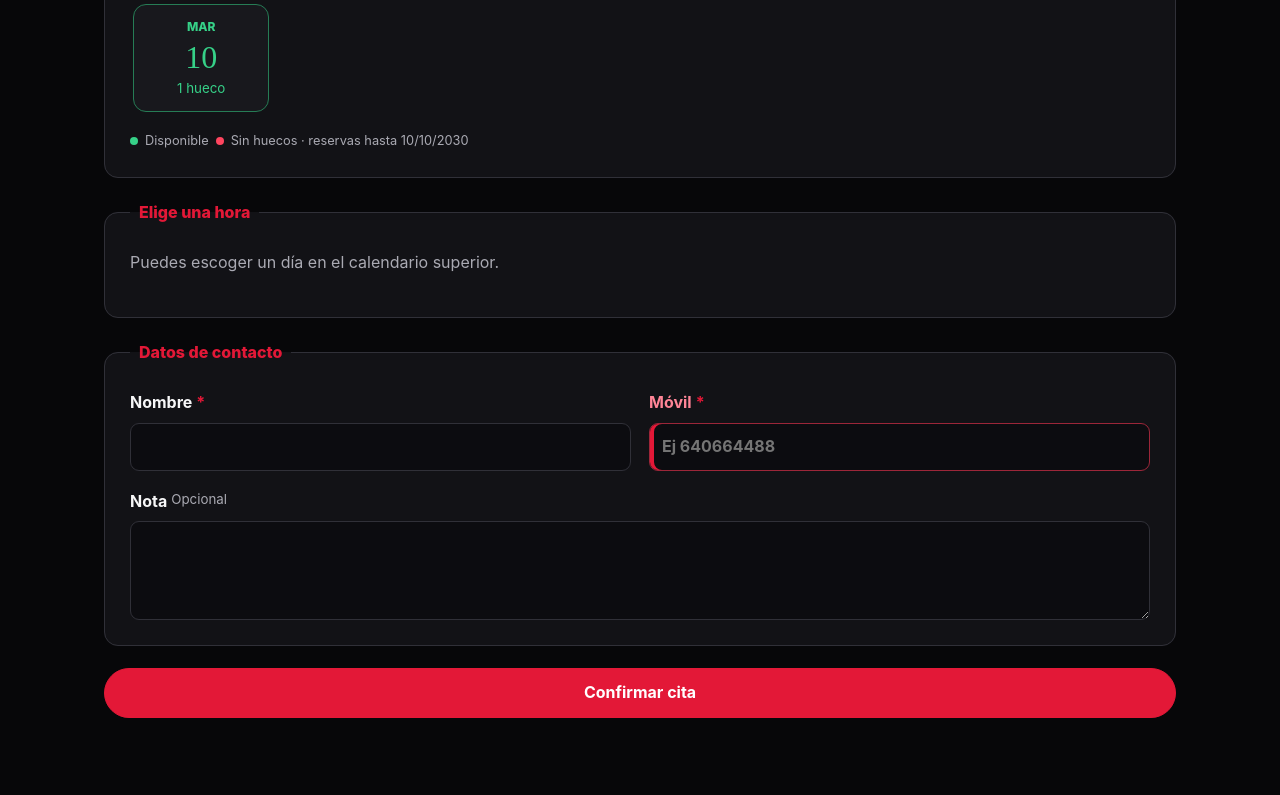
Test: reserva pública › actualiza los horarios tras un conflicto 409
The width and height of the screenshot is (1280, 795).
(page scrolled)
Type "Ana" into the field labelled "Nombre *" at (380,447), box left=130, top=423, right=631, bottom=471
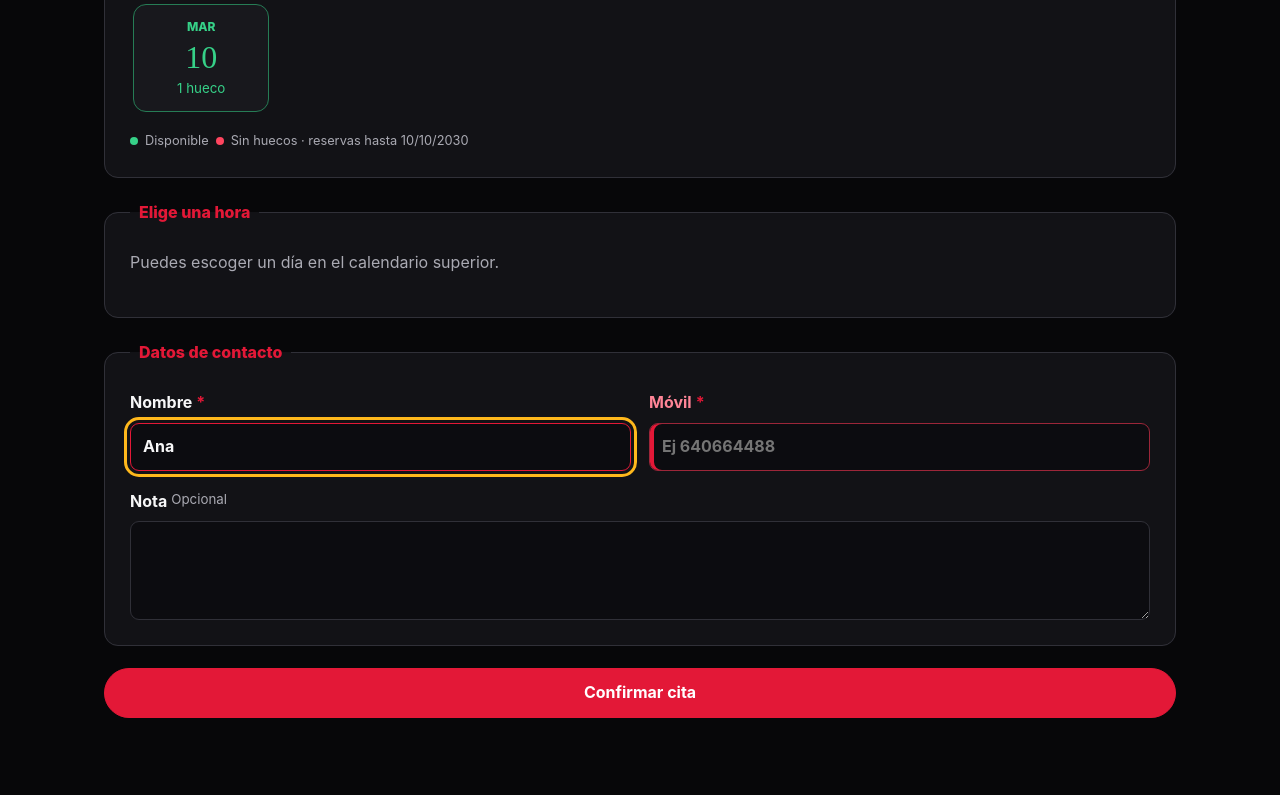
Type "600000000" into the field labelled "Móvil *" at (900,447), box left=649, top=423, right=1150, bottom=471
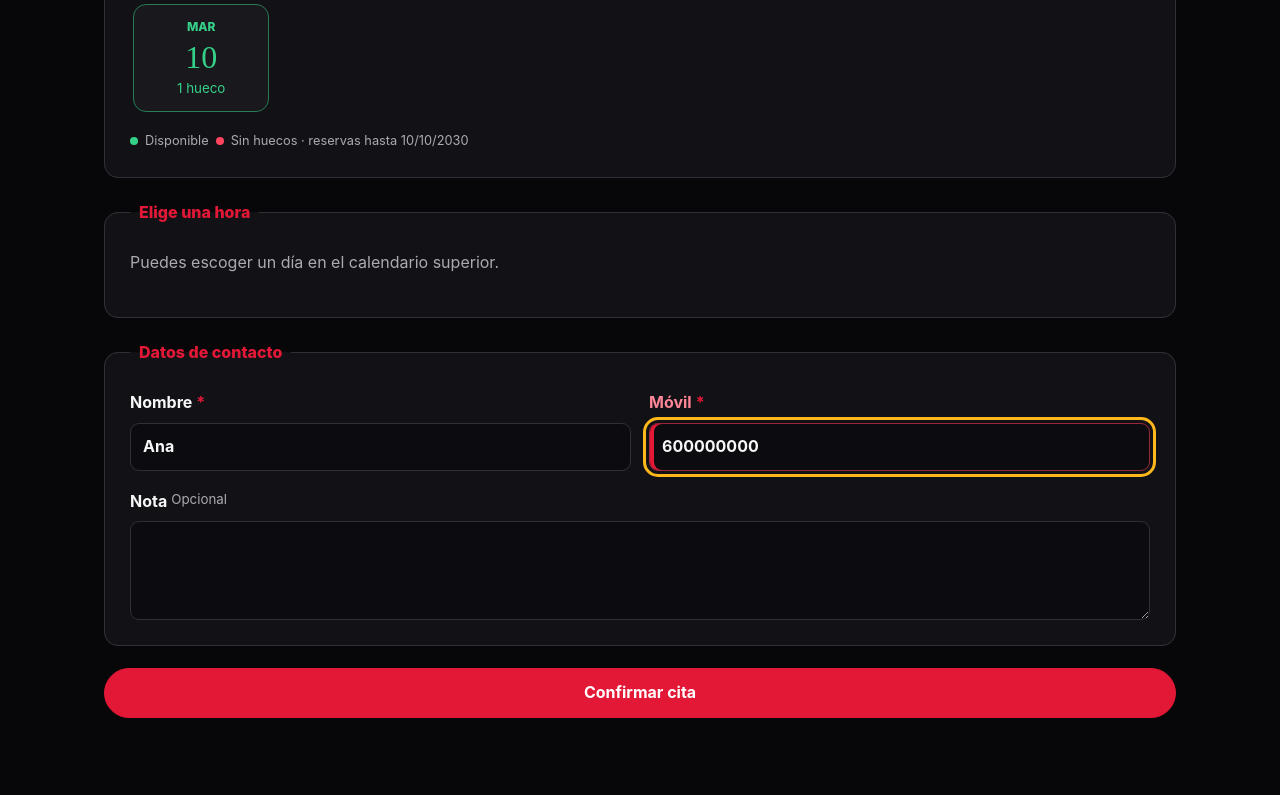
Click the button "mar 10 1 hueco" at (201,58), box left=133, top=4, right=269, bottom=112
(page scrolled)
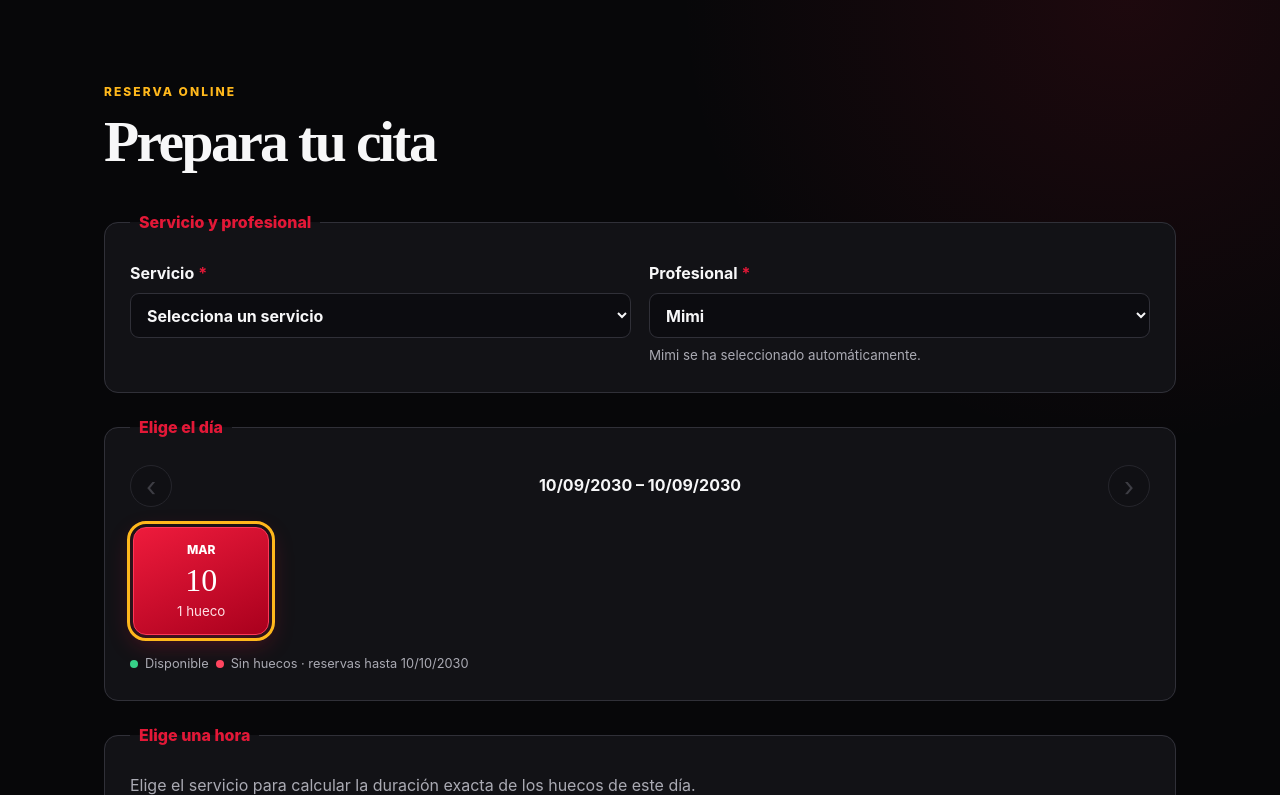
Select "Corte · 18.00 €" in the dropdown labelled "Servicio *" at (380,316), box left=130, top=293, right=631, bottom=338
(page scrolled)
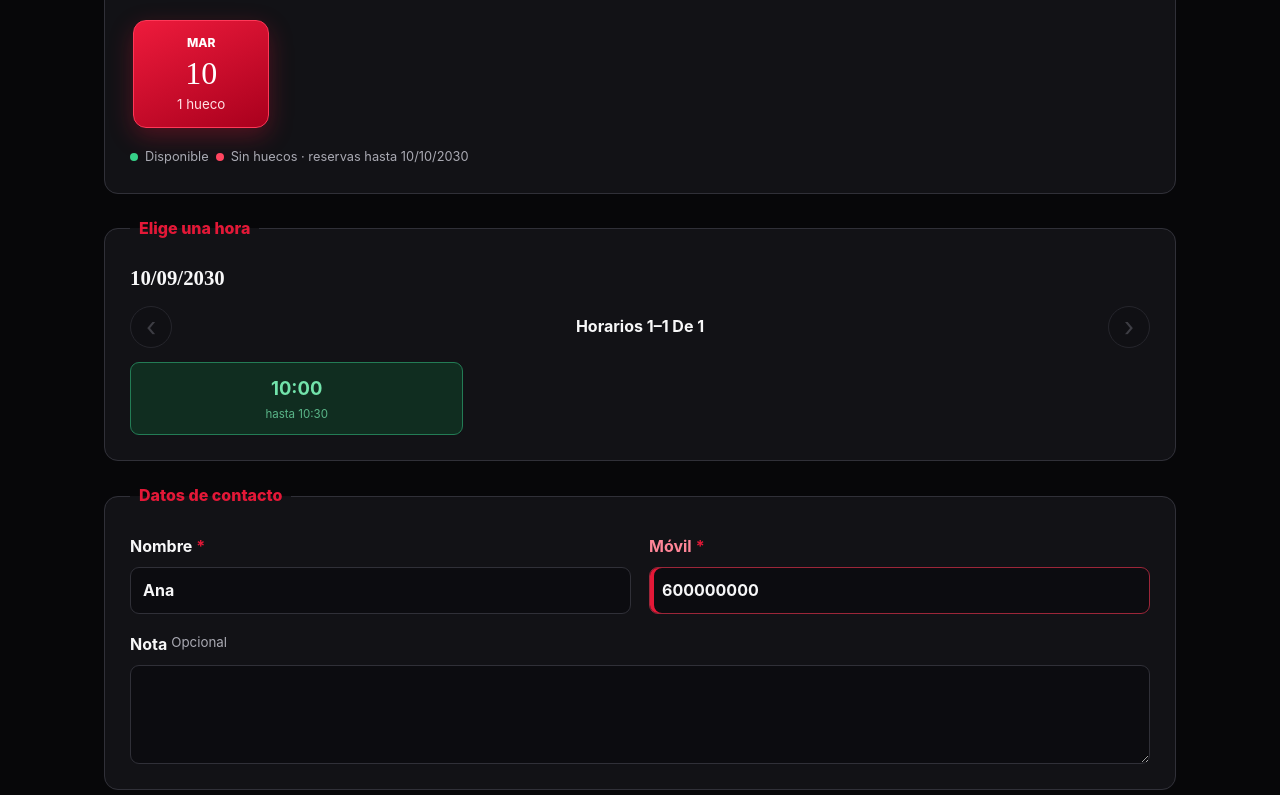
Click the button "10:00 hasta 10:30" at (297,398), box left=130, top=362, right=463, bottom=435
(page scrolled)
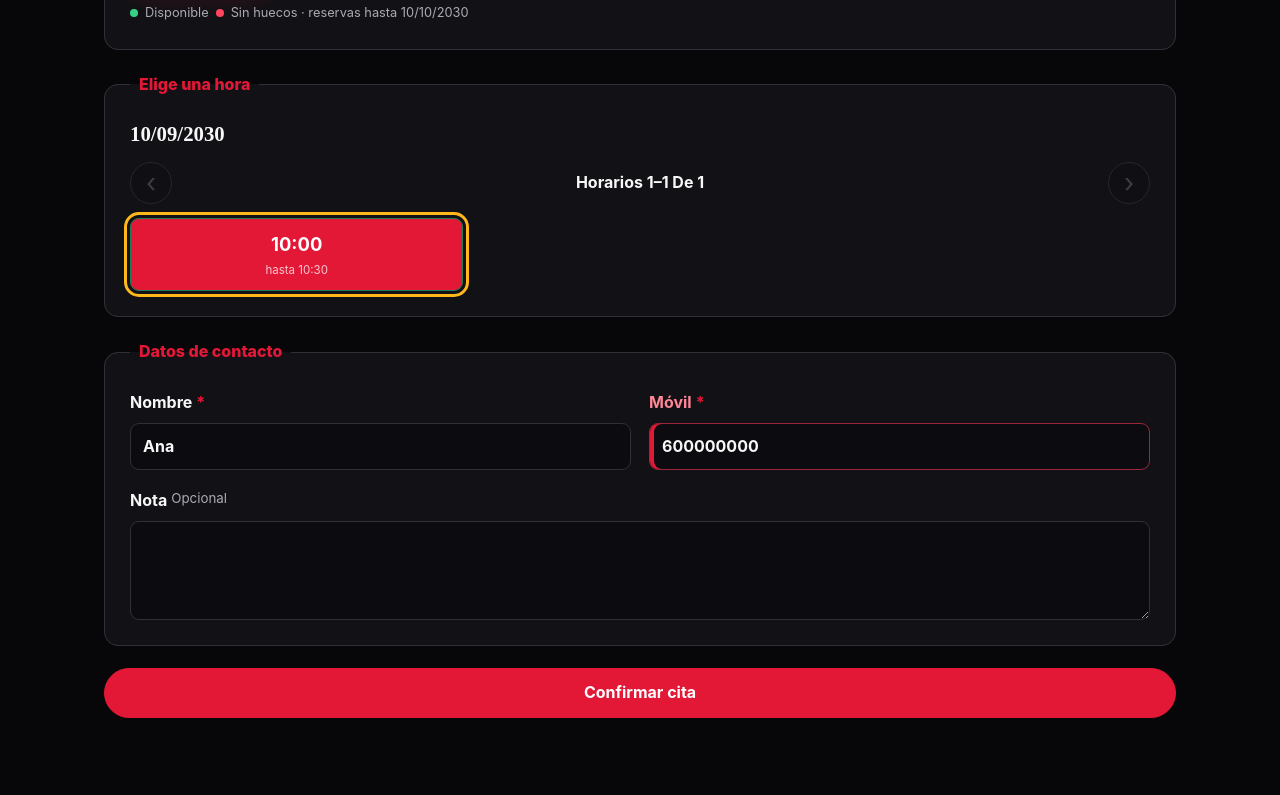
Click the button "Confirmar cita" at (640,692), box left=104, top=668, right=1176, bottom=718
(page scrolled)
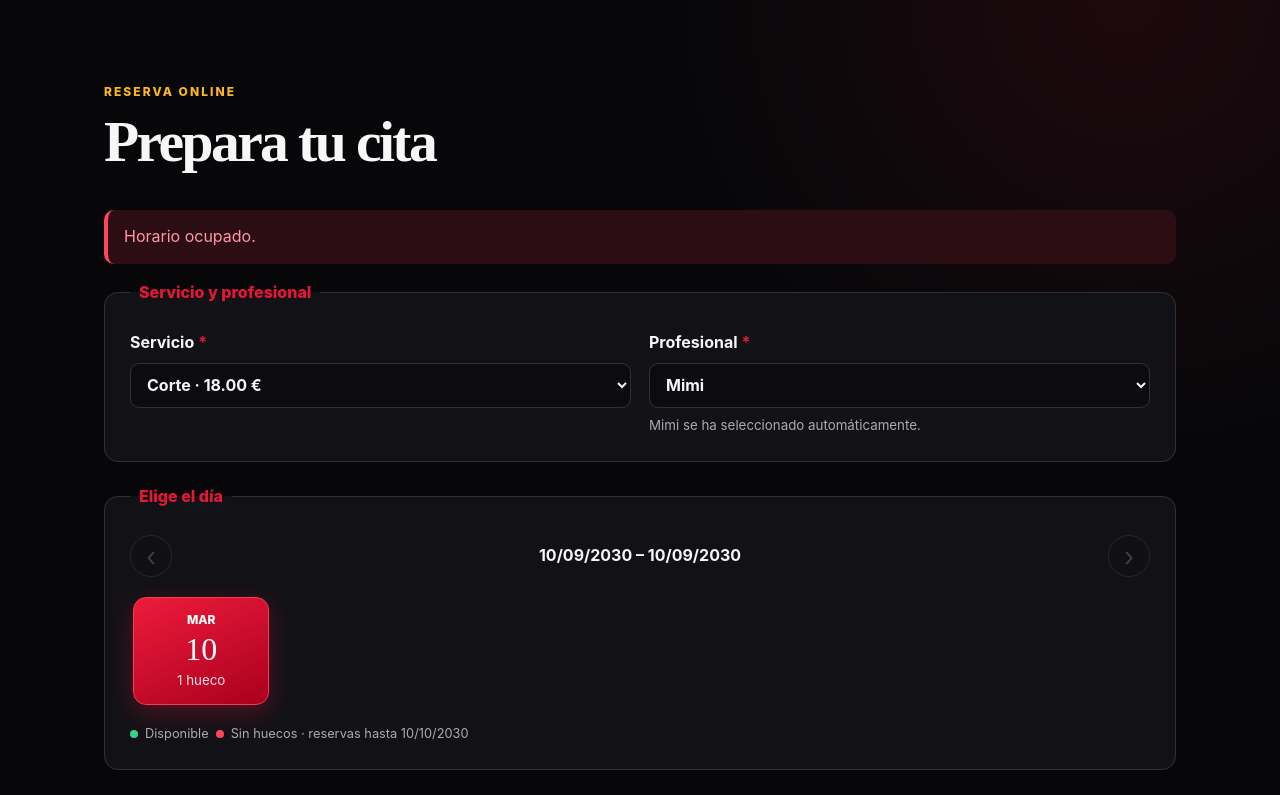
Now the message reads "Horario ocupado.", box left=124, top=226, right=256, bottom=246
